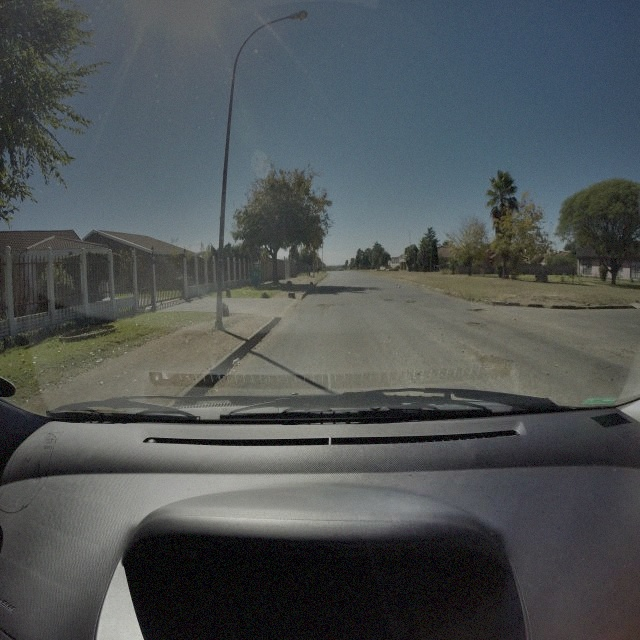pothole: (478, 354, 516, 376), (466, 321, 484, 331), (468, 306, 484, 313), (406, 300, 416, 305)
